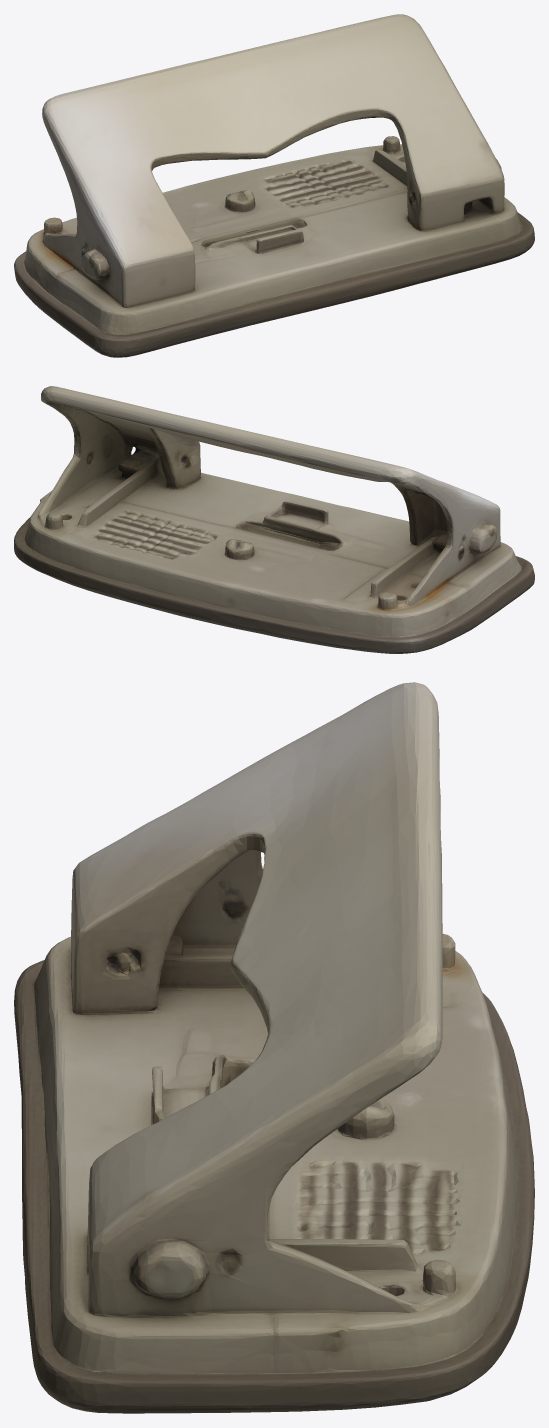
File: punch.glb
The picture shows the model from 3 angles, top to bottom: view 1: azimuth 30°, elevation 25°; view 2: azimuth 150°, elevation 25°; view 3: azimuth 270°, elevation 25°; orthographic projection. The views are drawn at different scales.
Parts seen in each view (by area): view 1: world; view 2: world; view 3: world.
Part boxes in pixels (left/top/right/bottom): world: left=14, top=14, right=534, bottom=357; world: left=14, top=386, right=534, bottom=653; world: left=14, top=682, right=534, bottom=1413.
Size of the model in its own units: 0.9996 by 0.3871 by 0.5147.
Materials: 1 (1 with a texture image).
